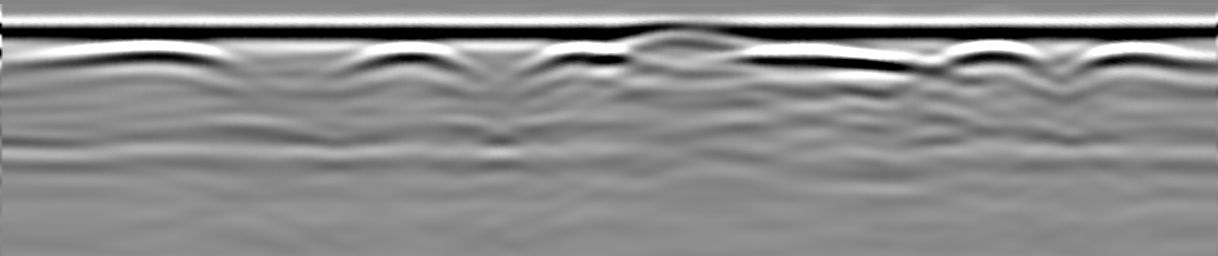pipe: (597, 22, 764, 47)
steel: (11, 40, 223, 67), (737, 45, 921, 72), (1072, 40, 1215, 71), (344, 42, 473, 71), (932, 39, 1042, 68), (528, 44, 632, 68)
